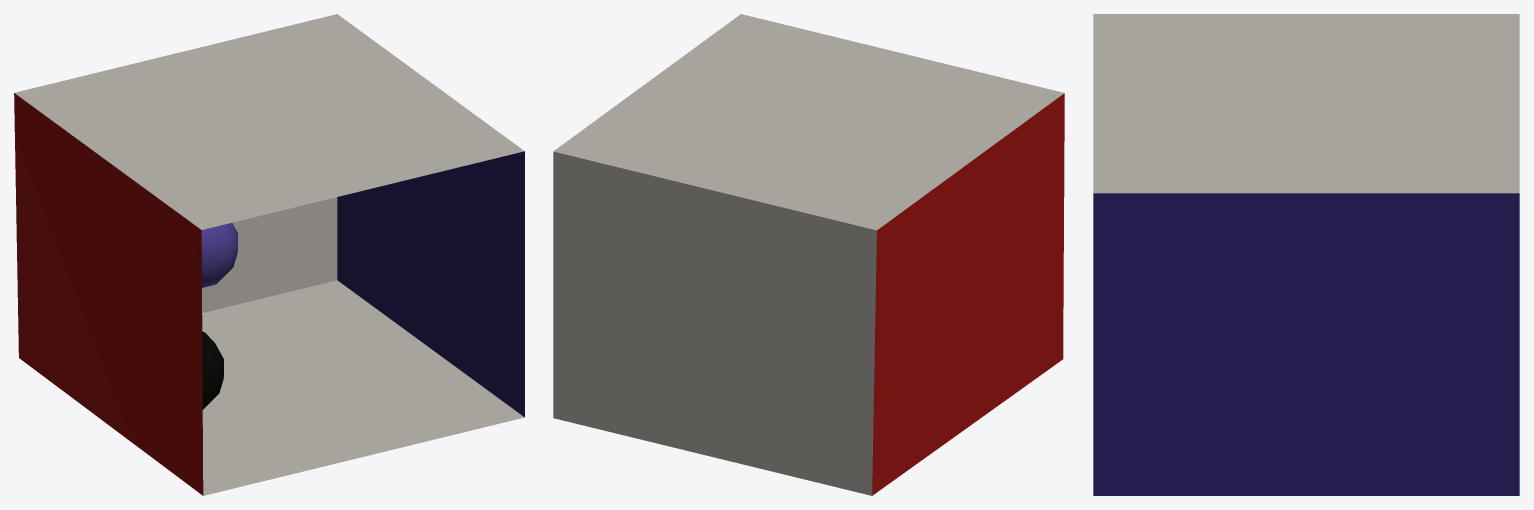
Rendered from CornellBox-Sphere-34.obj.
The picture shows the model from 3 angles, left to right: view 1: azimuth 30°, elevation 25°; view 2: azimuth 150°, elevation 25°; view 3: azimuth 270°, elevation 25°; orthographic projection. The views are drawn at different scales.
Parts seen in each view (by area): view 1: ceiling, leftWall, floor, rightWall, backWall, leftSphere, rightSphere; view 2: backWall, ceiling, leftWall; view 3: rightWall, ceiling.
Part boxes in pixels (left/top/right/bottom): ceiling: left=14, top=14, right=524, bottom=229; leftWall: left=14, top=93, right=203, bottom=495; floor: left=202, top=280, right=524, bottom=495; rightWall: left=337, top=151, right=524, bottom=417; backWall: left=202, top=197, right=337, bottom=312; leftSphere: left=201, top=223, right=237, bottom=287; rightSphere: left=202, top=331, right=223, bottom=409; backWall: left=553, top=151, right=876, bottom=495; ceiling: left=553, top=14, right=1064, bottom=230; leftWall: left=872, top=93, right=1064, bottom=495; rightWall: left=1093, top=193, right=1519, bottom=495; ceiling: left=1093, top=14, right=1519, bottom=193.
Bounding box in the file's own units: 2.02 × 1.59 × 2.03.
